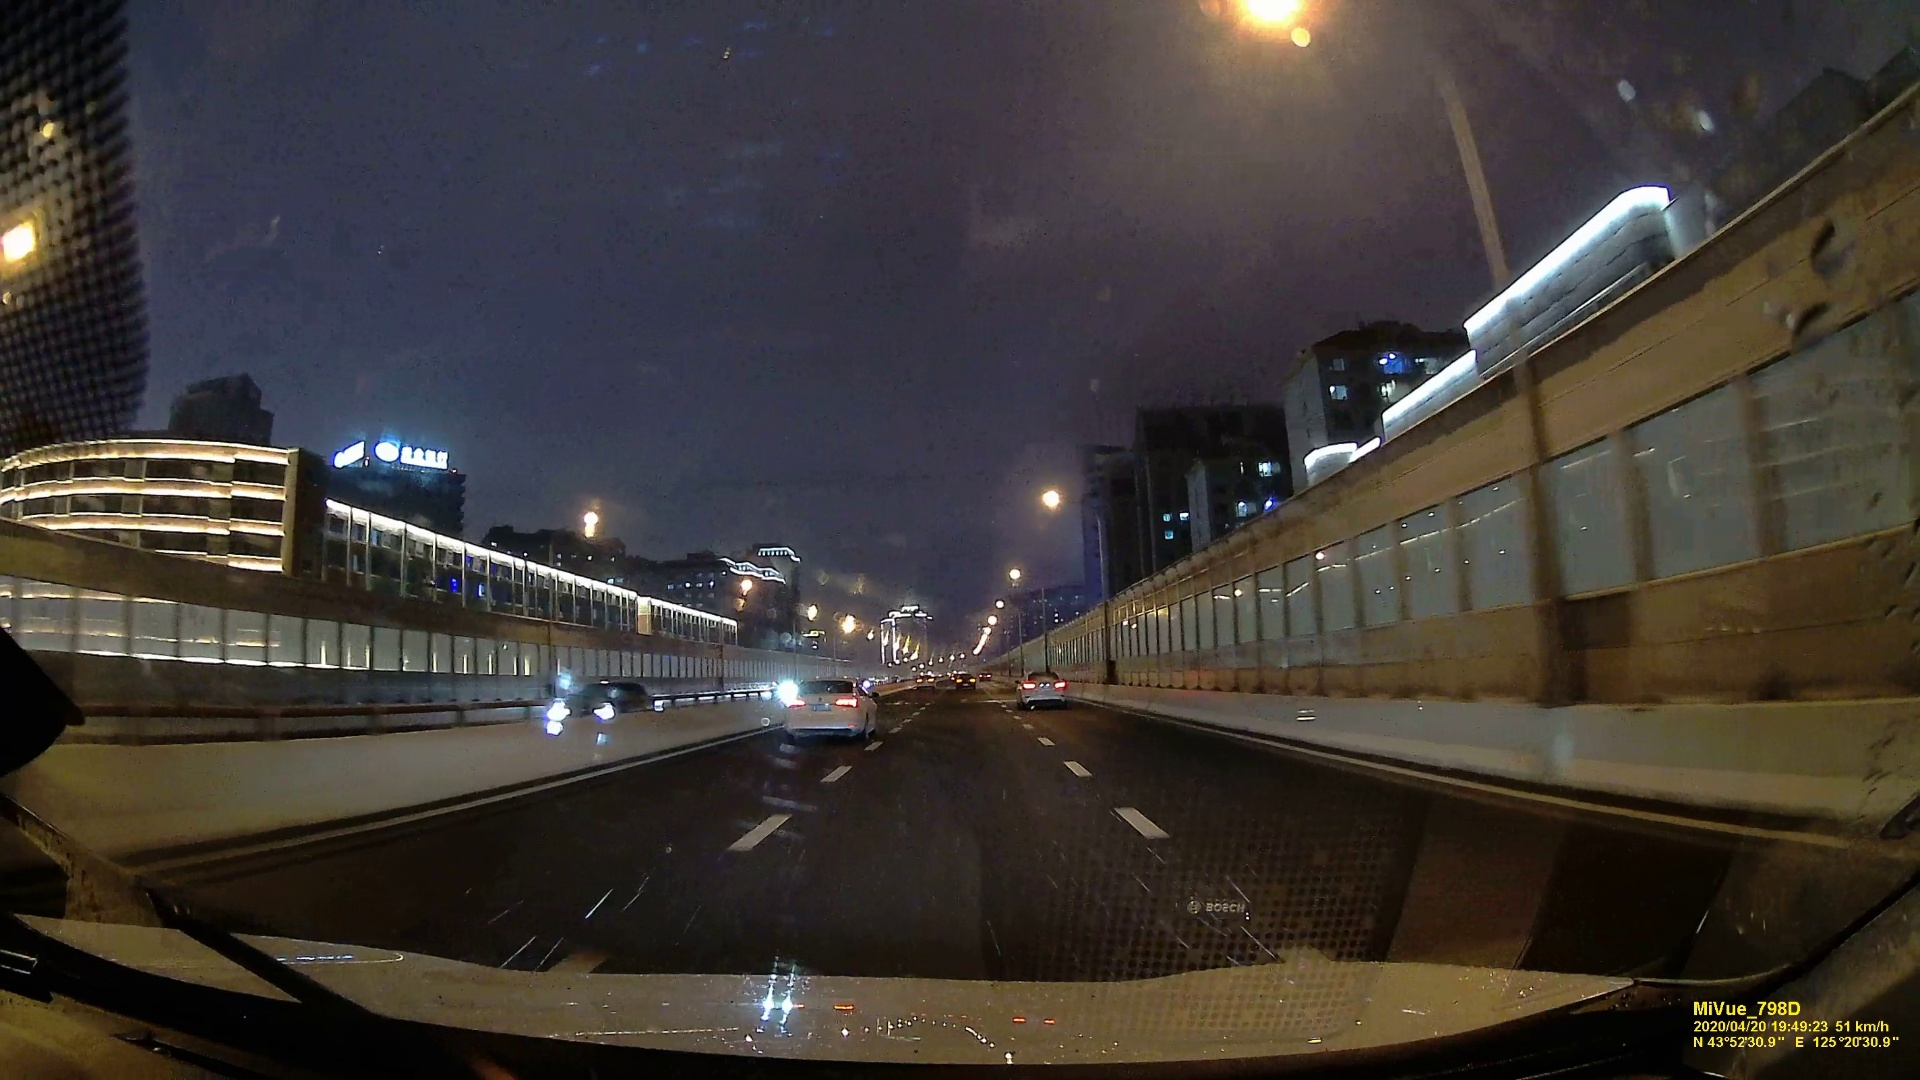vehicle: (782, 673, 881, 745), (545, 680, 659, 725), (1018, 670, 1069, 709), (953, 673, 977, 691), (915, 673, 938, 690)
